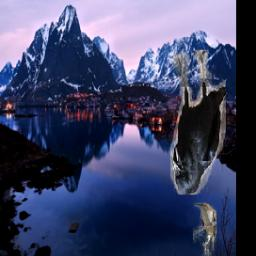Crow: (171, 51, 227, 196)
Cuckoo: (194, 204, 217, 256)
